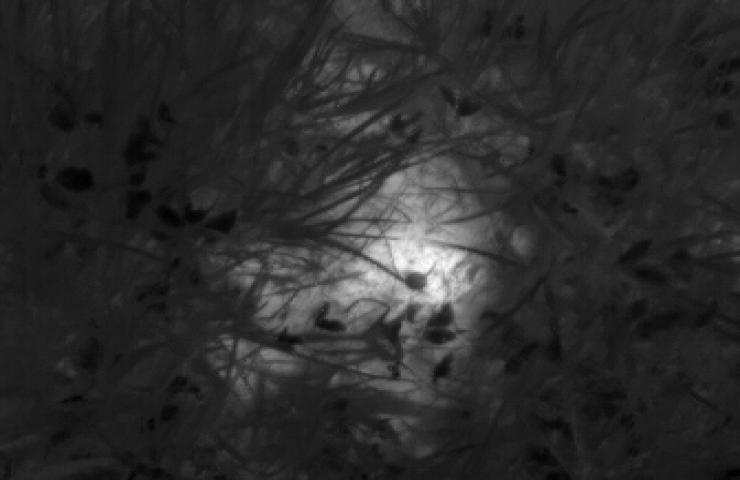landmines: (200, 57, 540, 415)
